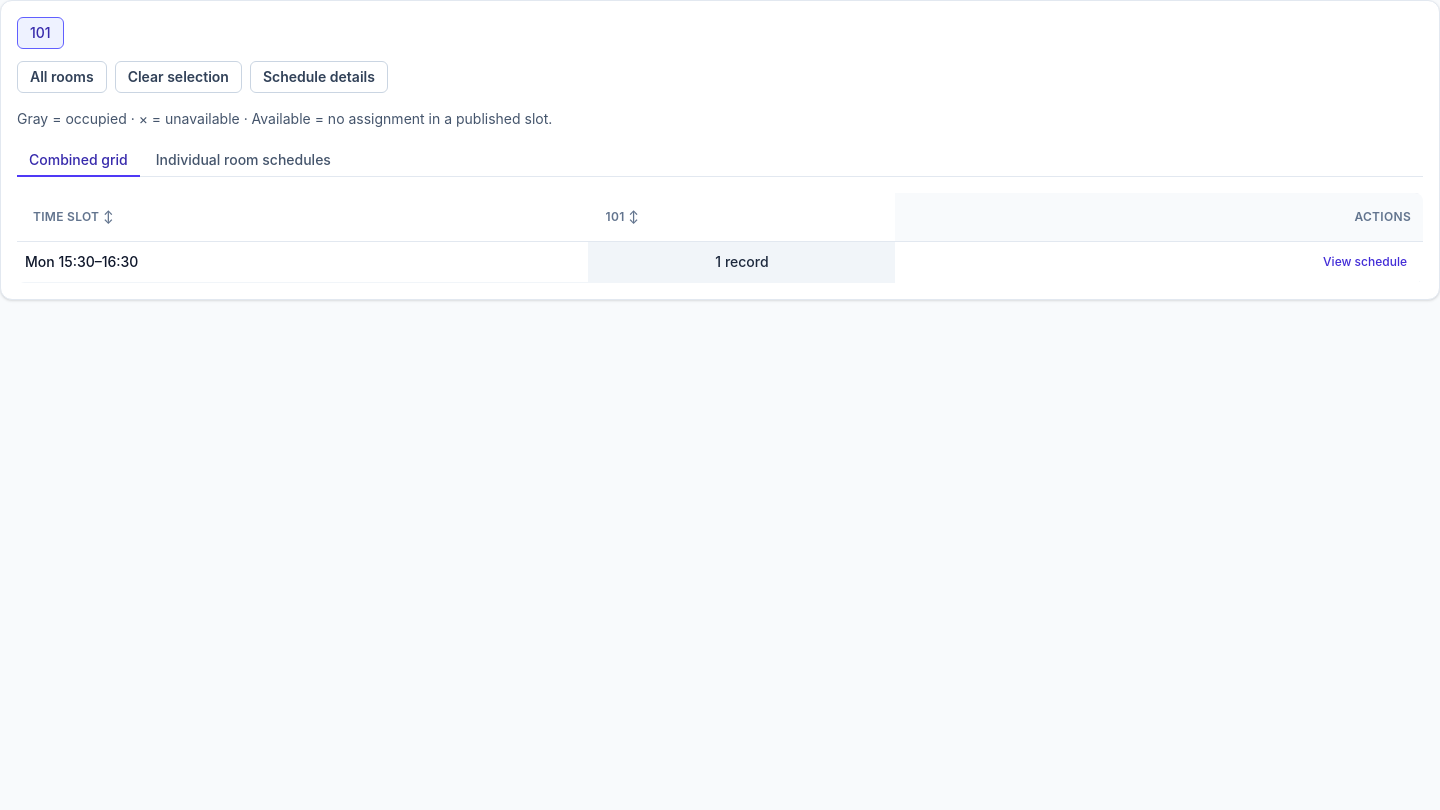
Test: does not append an empty outside-catalog separator to a matched recorded schedule
The width and height of the screenshot is (1440, 810).
Click the button "Schedule details" at (319, 77), box [250,61,388,93]
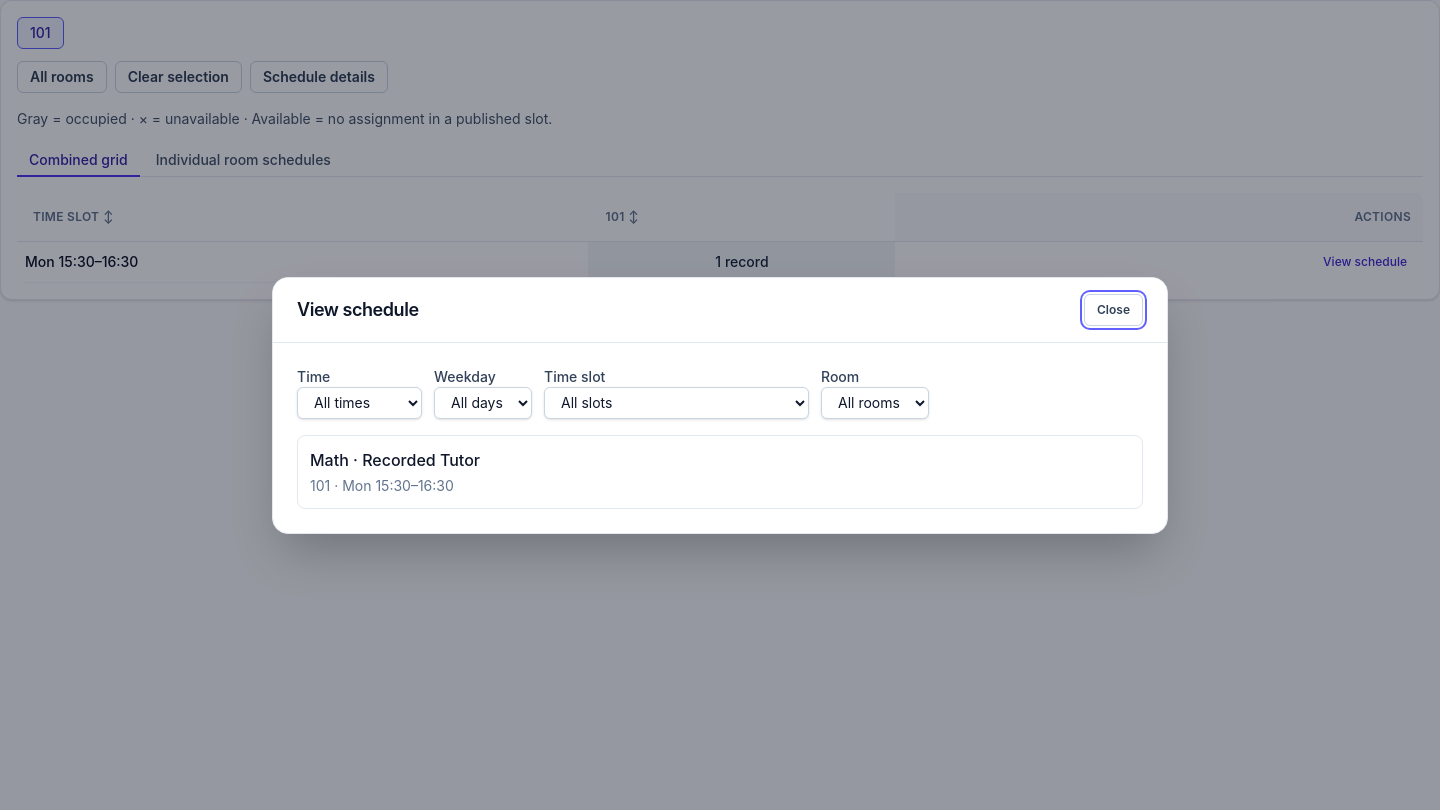
Now the text "101 · Mon 15:30–16:30" is shown, box [310,476,454,494]
